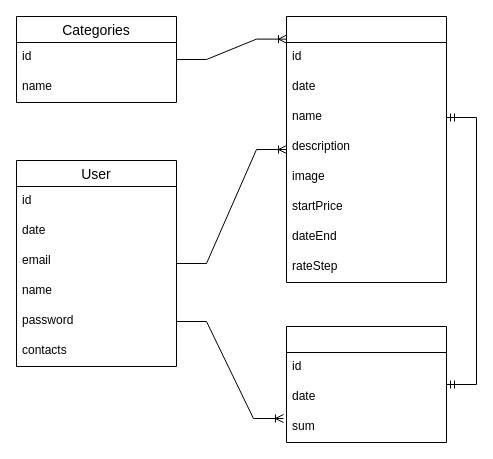
Image size: 493x459. Some labels were removed from this diagram. Here are the shapes that lost their labels. From the top down, the box of each, then its label:
(286, 16, 446, 282): Lot
(286, 326, 446, 442): Rate
